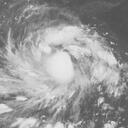cyclone: (5, 23, 114, 117)
